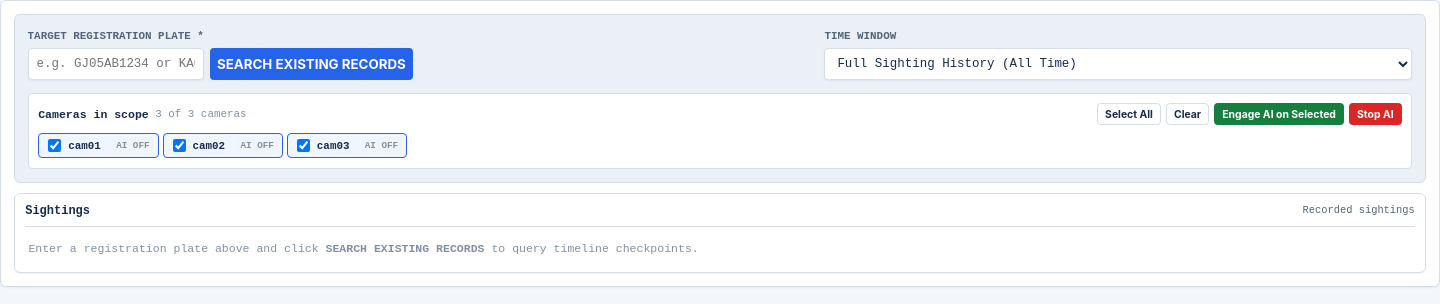
Scenario: Phase 23A — C2 Command Center & Workspace Specifications › 8. Camera checklist allows scoping, Select All, and Clear
Check: the text "Cameras in scope" is shown, box [38,106,149,123]
Step 1. Click the button "Clear" → x=1188, y=114, box [1166,103,1209,125]
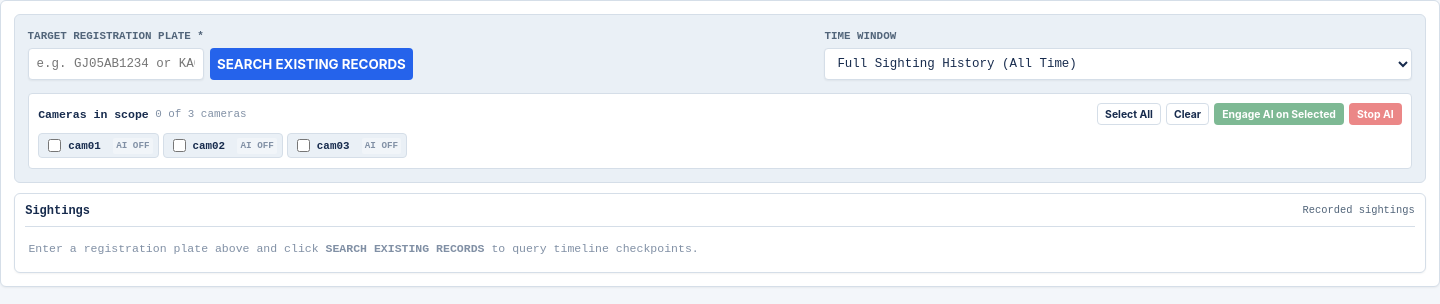
Check: the text "0 of 3 cameras" is shown, box [155,106,247,122]
Step 2. Click the button "Select All" → x=1129, y=114, box [1097,103,1161,125]
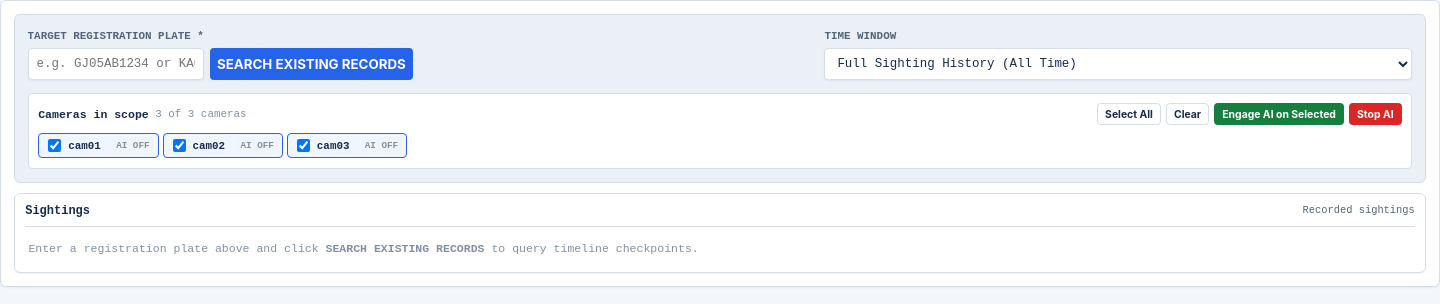
Check: the text "3 of 3 cameras" is shown, box [155,106,247,122]
